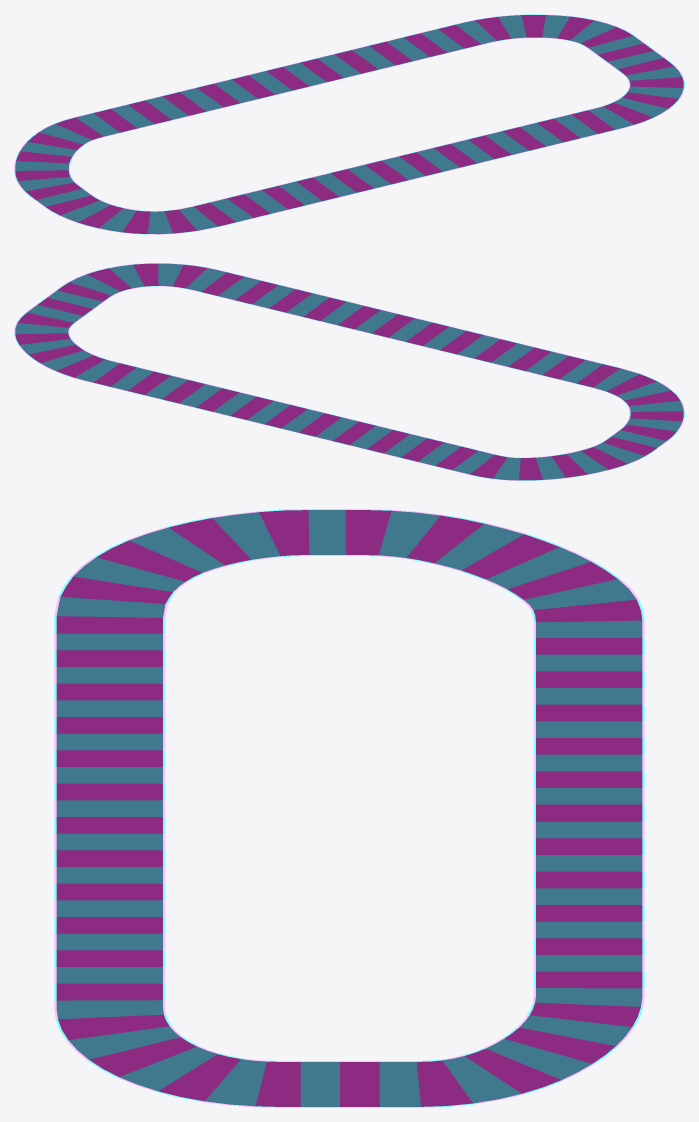
3 views of the same model, one above another, from view 1: azimuth 30°, elevation 25°; view 2: azimuth 150°, elevation 25°; view 3: azimuth 270°, elevation 25° (orthographic). The views are drawn at different scales.
Visible parts, largest first — view 1: path; view 2: path; view 3: path.
Boxes of the visible parts, x1,y1,x2,y2 form: path: (14,14,684,234); path: (14,263,684,480); path: (54,509,644,1107).
Size of the model in its own units: 7.58 by 9.9e-08 by 3.16.
